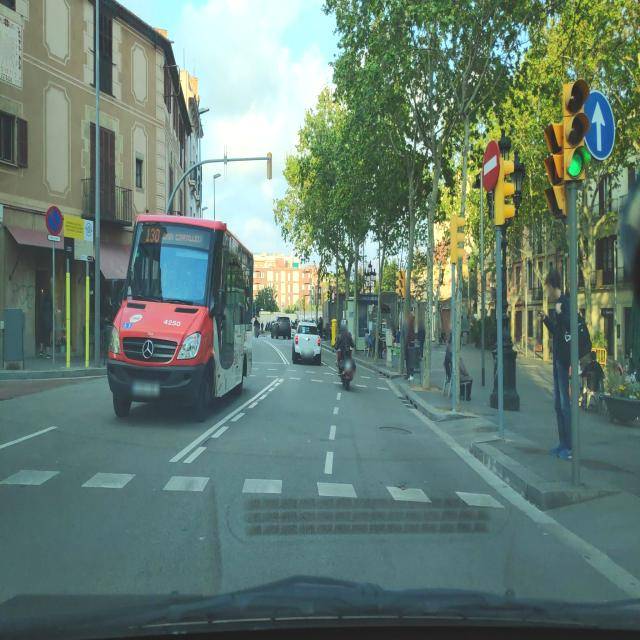bike: (336, 334, 356, 390)
car: (291, 320, 323, 366), (270, 314, 292, 339)
